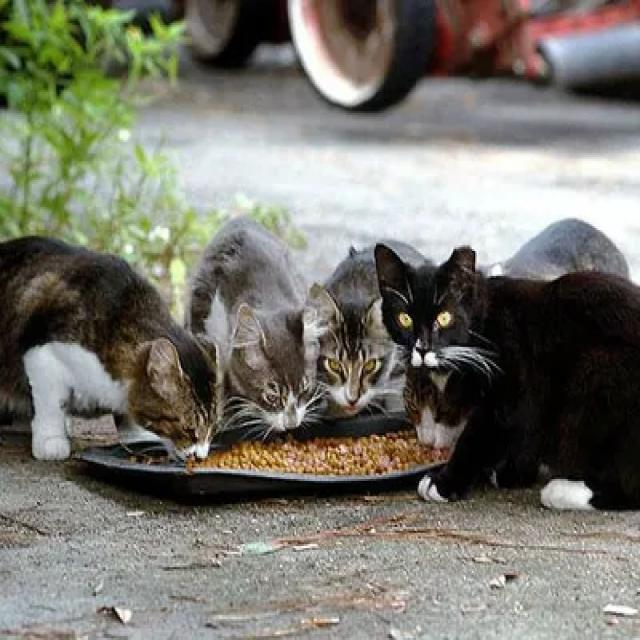cat: (375, 246, 640, 507), (0, 237, 219, 459), (188, 217, 324, 436), (309, 247, 402, 417), (504, 219, 629, 279)
